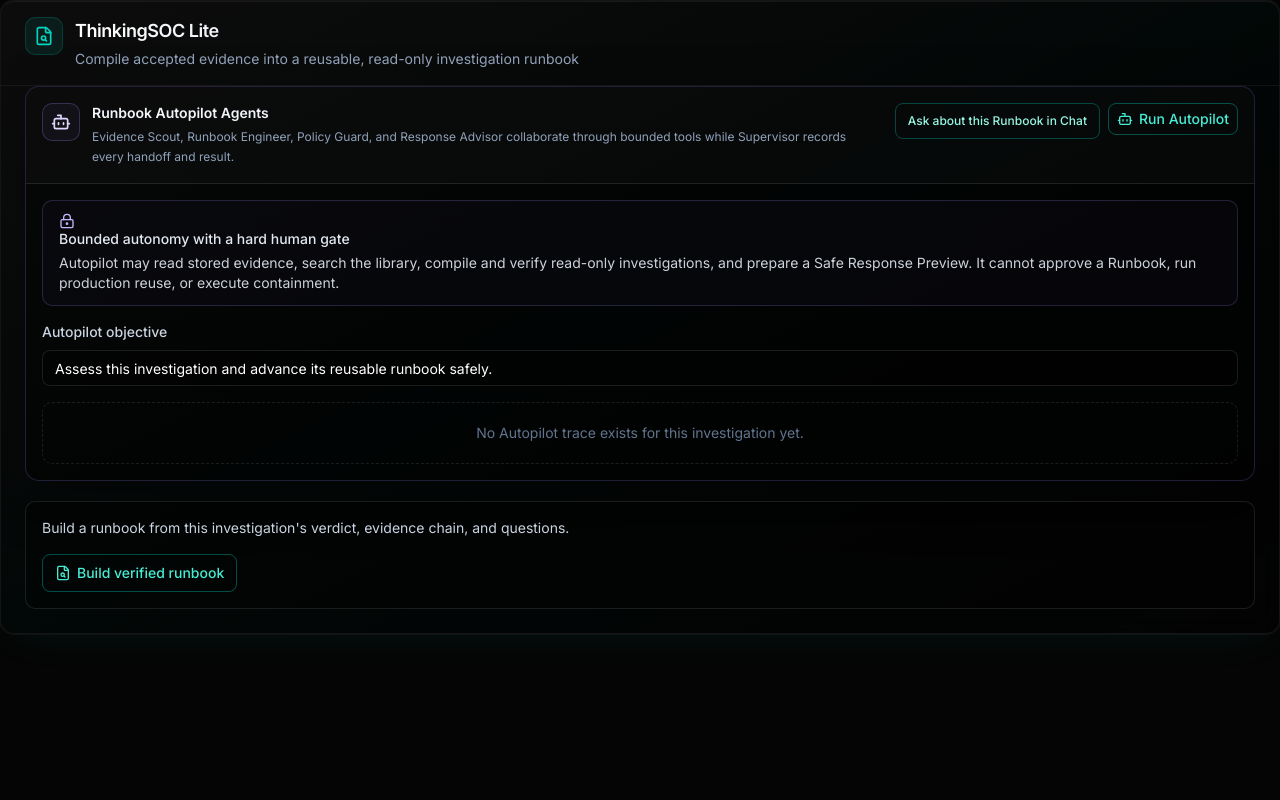
Test: VerifiedRunbookPanel › shows a retryable provider error without hiding the ready state
Click the button "Build verified runbook": point(140, 573) [42,554,237,592]
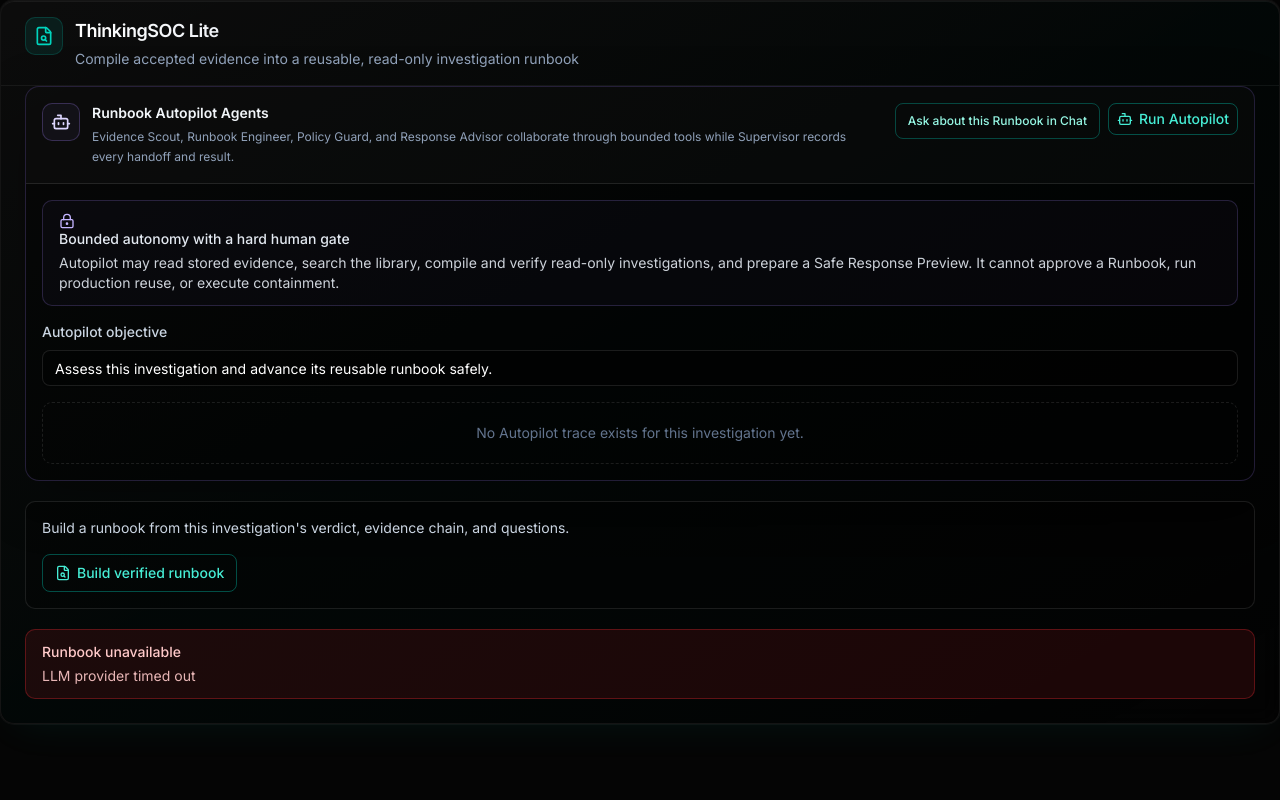
Expected: the text "LLM provider timed out" is shown, [42,667,196,684]
